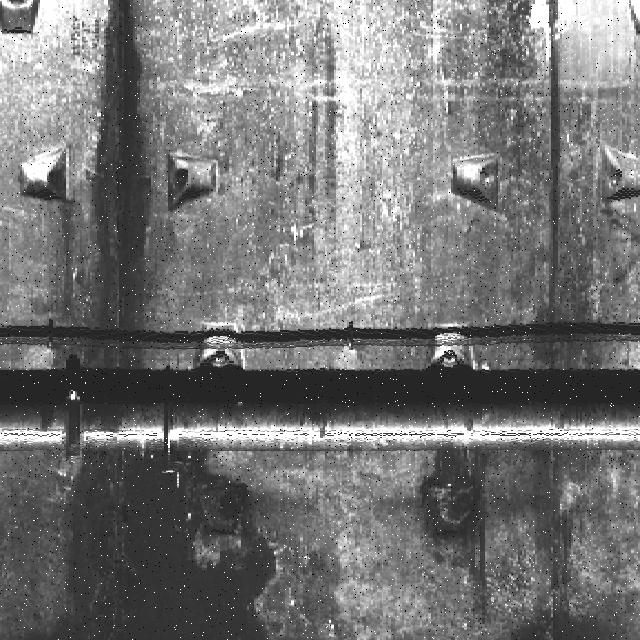leakage: (46, 441, 288, 639), (46, 0, 176, 367)
